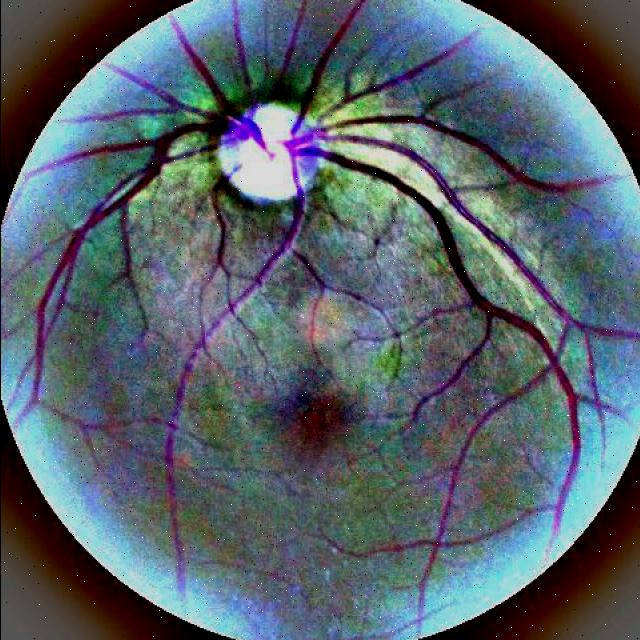Macula: (300, 407, 325, 433)
Nerves: (28, 0, 603, 577)
Optic Disk: (216, 104, 297, 203)
